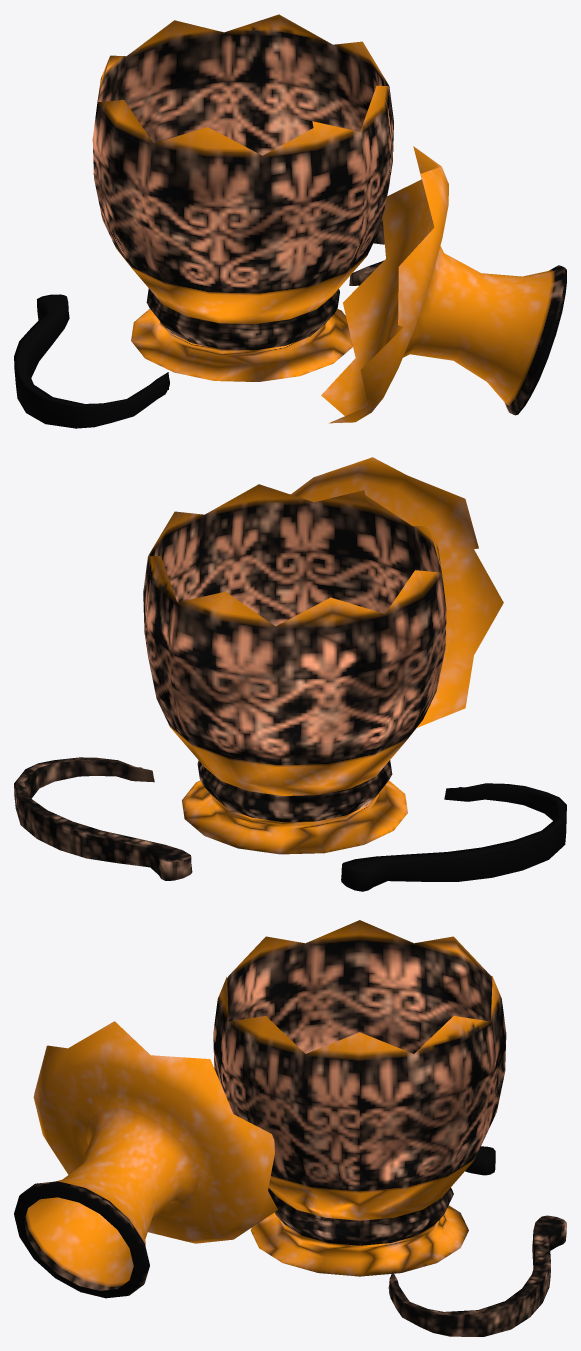
The model's file is vase_broken.fbx.
3 renders of one model, top to bottom at view 1: azimuth 30°, elevation 25°; view 2: azimuth 150°, elevation 25°; view 3: azimuth 270°, elevation 25°, orthographic. The views are drawn at different scales.
Parts seen in each view (by area): view 1: vase_broken; view 2: vase_broken; view 3: vase_broken.
Boxes of the visible parts, x1,y1,x2,y2 form: vase_broken: (14,14,566,428); vase_broken: (14,457,566,891); vase_broken: (14,920,566,1336).
Size of the model in its own units: 114 by 65.25 by 125.
